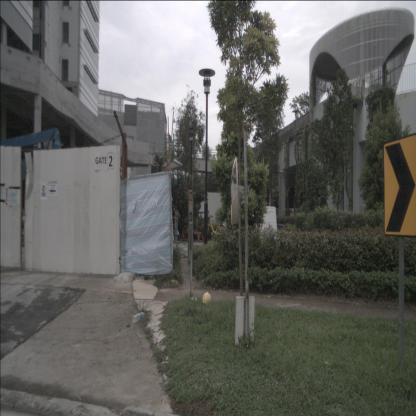vehicle-bicycle: (204, 210, 229, 244), (182, 214, 205, 242)
